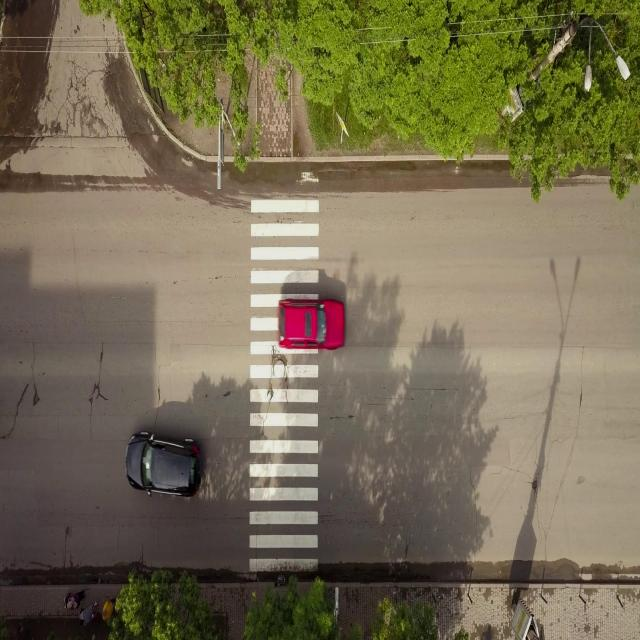Car: (270, 286, 350, 359), (125, 433, 202, 498)
